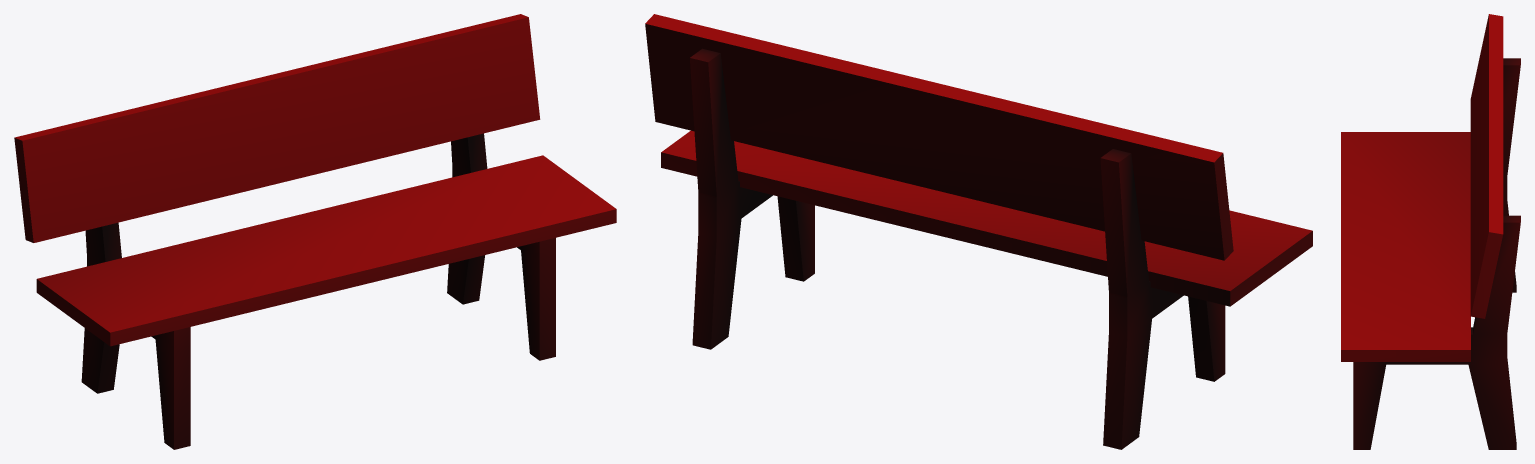
Rendered from ConcreteBench.glb.
3 views of the same model, side by side, from view 1: azimuth 30°, elevation 25°; view 2: azimuth 150°, elevation 25°; view 3: azimuth 270°, elevation 25° (orthographic). The views are drawn at different scales.
Visible parts, largest first — view 1: ConcreteBench; view 2: ConcreteBench; view 3: ConcreteBench.
Part boxes in pixels (x1,y1,x2,y2): ConcreteBench: [14, 14, 616, 449]; ConcreteBench: [645, 14, 1312, 449]; ConcreteBench: [1341, 14, 1520, 449].
Bounding box in the file's own units: 8.06 × 4.09 × 2.78.
